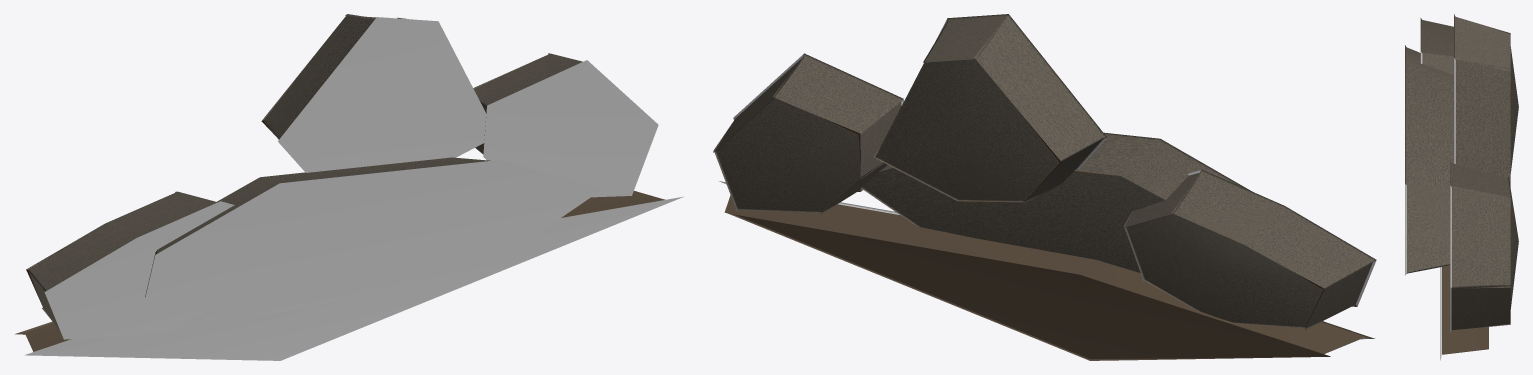
Rendered from SM_GIA_BloodAxeCairnSlabCluster_A01_GameReady_LOD3.fbx.
3 renders of one model, left to right at view 1: azimuth 30°, elevation 25°; view 2: azimuth 150°, elevation 25°; view 3: azimuth 270°, elevation 25°, orthographic. The views are drawn at different scales.
Visible parts, largest first — view 1: SM_GIA_BloodAxeCairnSlabCluster_A01_GameReady_LOD3_GameReady (×5); view 2: SM_GIA_BloodAxeCairnSlabCluster_A01_GameReady_LOD3_GameReady (×5); view 3: SM_GIA_BloodAxeCairnSlabCluster_A01_GameReady_LOD3_GameReady (×5).
Boxes of the visible parts, left/top/right/bottom form: SM_GIA_BloodAxeCairnSlabCluster_A01_GameReady_LOD3_GameReady (×5): left=15, top=14, right=683, bottom=360; SM_GIA_BloodAxeCairnSlabCluster_A01_GameReady_LOD3_GameReady (×5): left=713, top=14, right=1376, bottom=360; SM_GIA_BloodAxeCairnSlabCluster_A01_GameReady_LOD3_GameReady (×5): left=1405, top=14, right=1518, bottom=360.
Bounding box in the file's own units: 5800 × 34318 × 15509.
